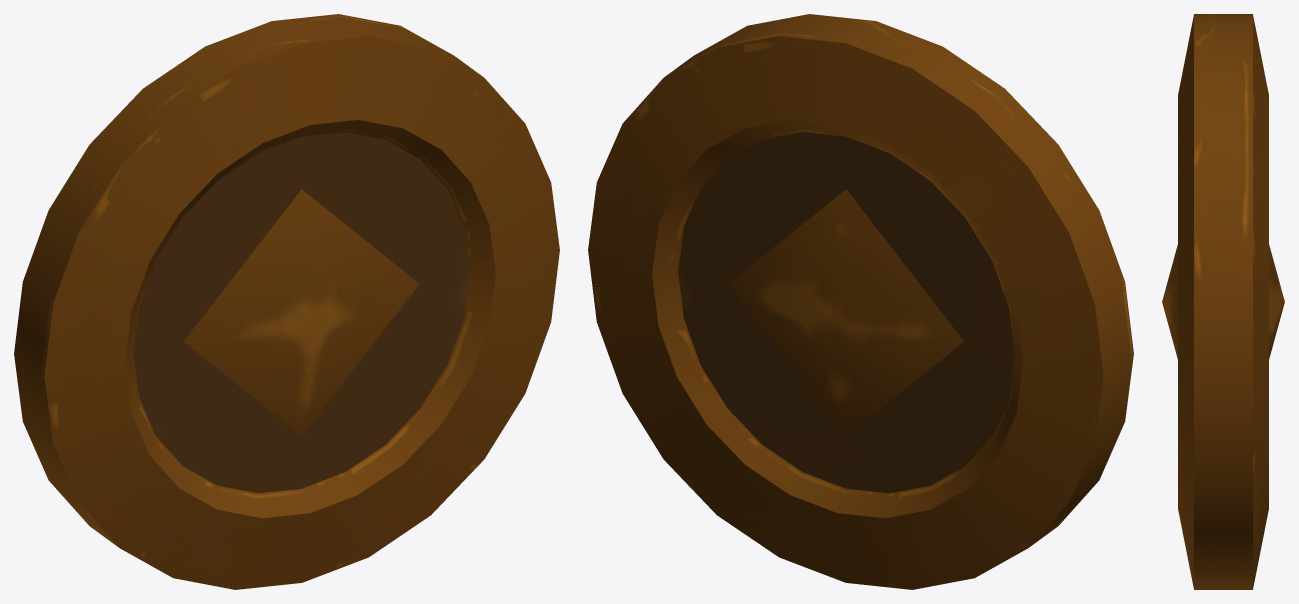
File: Coin.glb
3 renders of one model, left to right at view 1: azimuth 30°, elevation 25°; view 2: azimuth 150°, elevation 25°; view 3: azimuth 270°, elevation 25°, orthographic. The views are drawn at different scales.
Parts seen in each view (by area): view 1: Coin; view 2: Coin; view 3: Coin.
Part boxes in pixels (x1,y1,x2,y2): Coin: [14, 14, 559, 589]; Coin: [588, 14, 1133, 589]; Coin: [1162, 14, 1284, 589].
Size of the model in its own units: 0.0683 by 0.0683 by 0.0145.
Materials: 1 (1 with a texture image).
